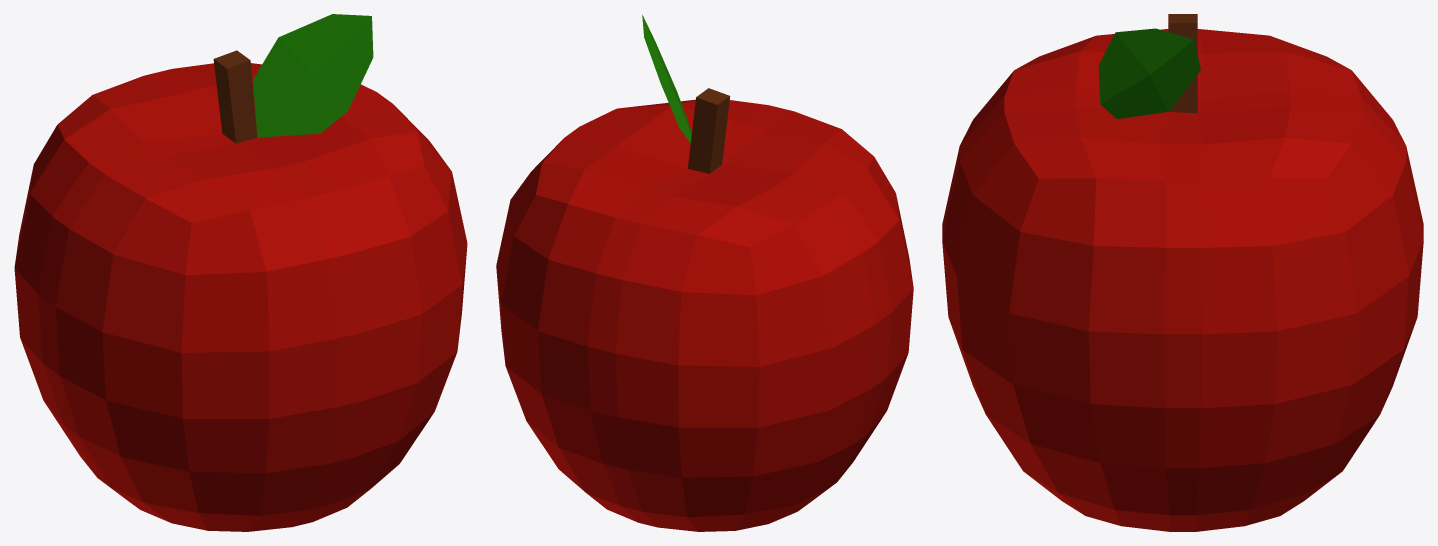
Rendered from apple.fbx.
3 views of the same model, side by side, from view 1: azimuth 30°, elevation 25°; view 2: azimuth 150°, elevation 25°; view 3: azimuth 270°, elevation 25° (orthographic). The views are drawn at different scales.
Visible parts, largest first — view 1: Cube; view 2: Cube; view 3: Cube.
Boxes of the visible parts, <box> form: Cube: <box>14,14,467,531</box>; Cube: <box>496,15,913,531</box>; Cube: <box>942,14,1423,531</box>.
Bounding box in the file's own units: 163 × 190 × 163.
